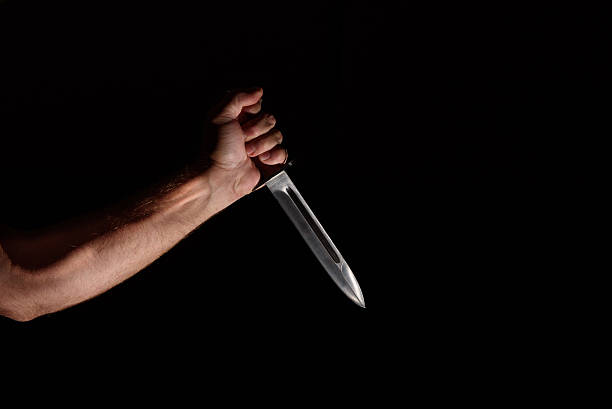knife: (254, 158, 367, 310)
